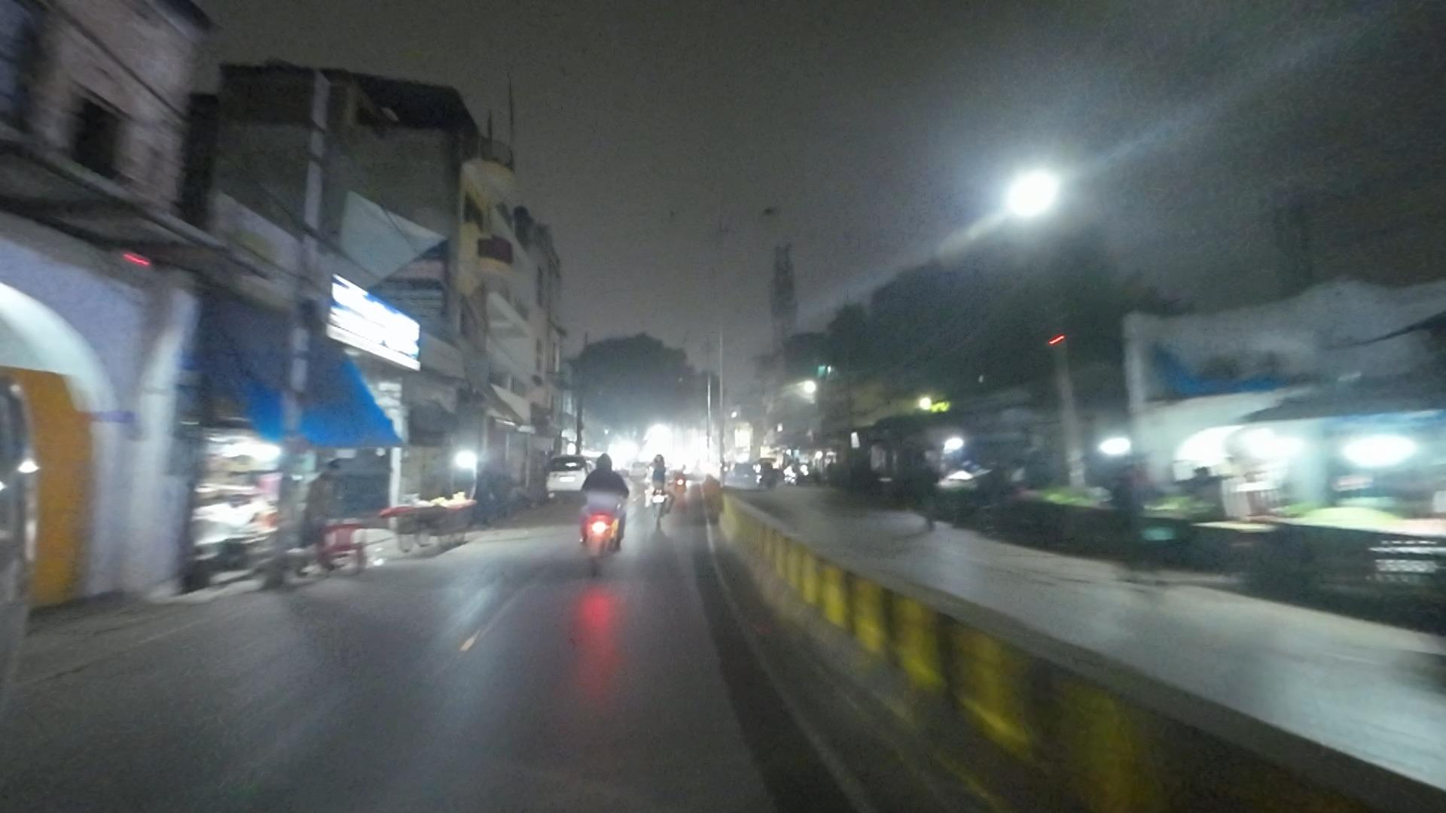streetlight: (726, 205, 778, 220)
